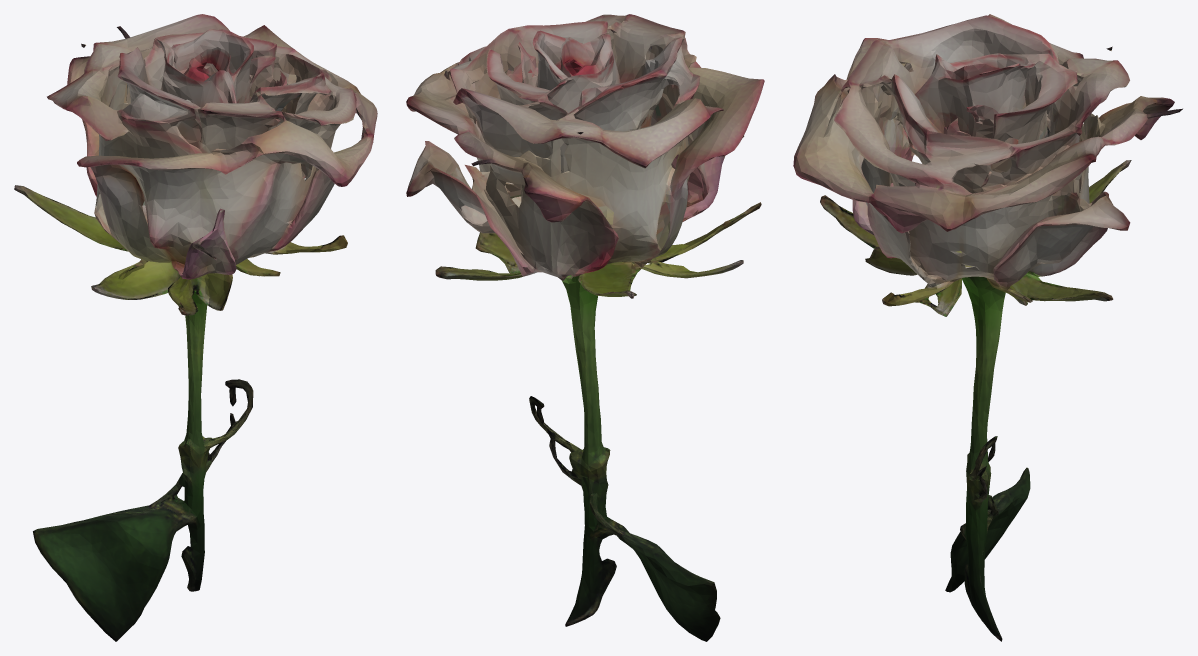
3 renders of one model, left to right at view 1: azimuth 30°, elevation 25°; view 2: azimuth 150°, elevation 25°; view 3: azimuth 270°, elevation 25°, orthographic. The views are drawn at different scales.
Parts seen in each view (by area): view 1: world; view 2: world; view 3: world.
Part boxes in pixels (<box>): world: <box>14,14,377,641</box>; world: <box>406,14,764,641</box>; world: <box>793,14,1182,641</box>.
Size of the model in its own units: 0.5517 by 0.9644 by 0.5718.
1 material, 1 textured.
